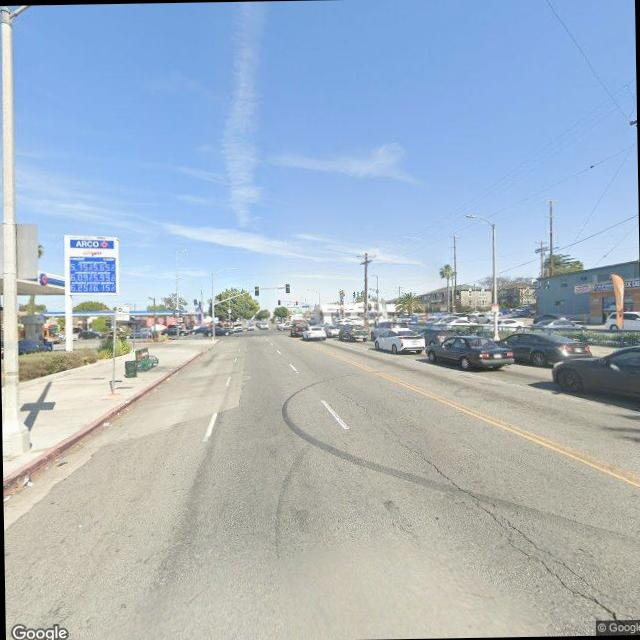crack: (378, 424, 619, 620)
